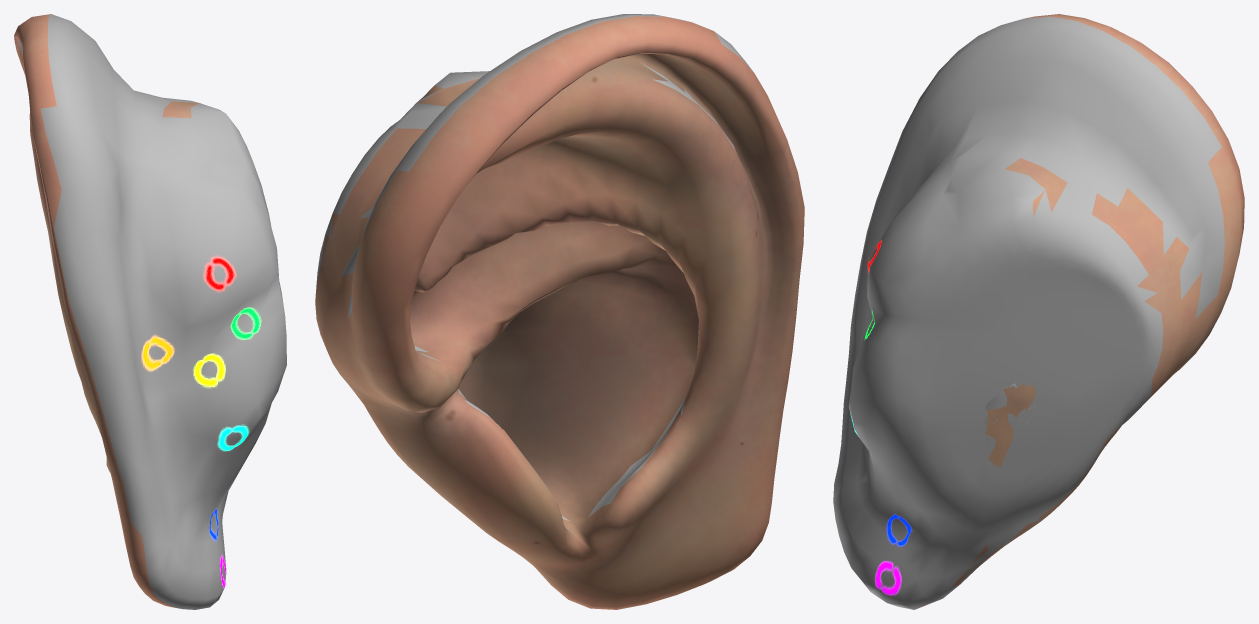
The picture shows the model from 3 angles, left to right: view 1: azimuth 30°, elevation 25°; view 2: azimuth 150°, elevation 25°; view 3: azimuth 270°, elevation 25°; orthographic projection. The views are drawn at different scales.
Parts seen in each view (by area): view 1: Pontos, Orelha; view 2: Orelha, Pontos; view 3: Pontos, Orelha.
Boxes of the visible parts, x1=… form: Pontos: x1=18, y1=14, x2=286, y2=609; Orelha: x1=14, y1=14, x2=198, y2=607; Orelha: x1=315, y1=16, x2=804, y2=609; Pontos: x1=315, y1=14, x2=753, y2=536; Pontos: x1=833, y1=16, x2=1224, y2=609; Orelha: x1=917, y1=14, x2=1244, y2=608.
Bounding box in the file's own units: 0.8684 × 1.74 × 1.19.
Materials: 9 (2 with a texture image).
